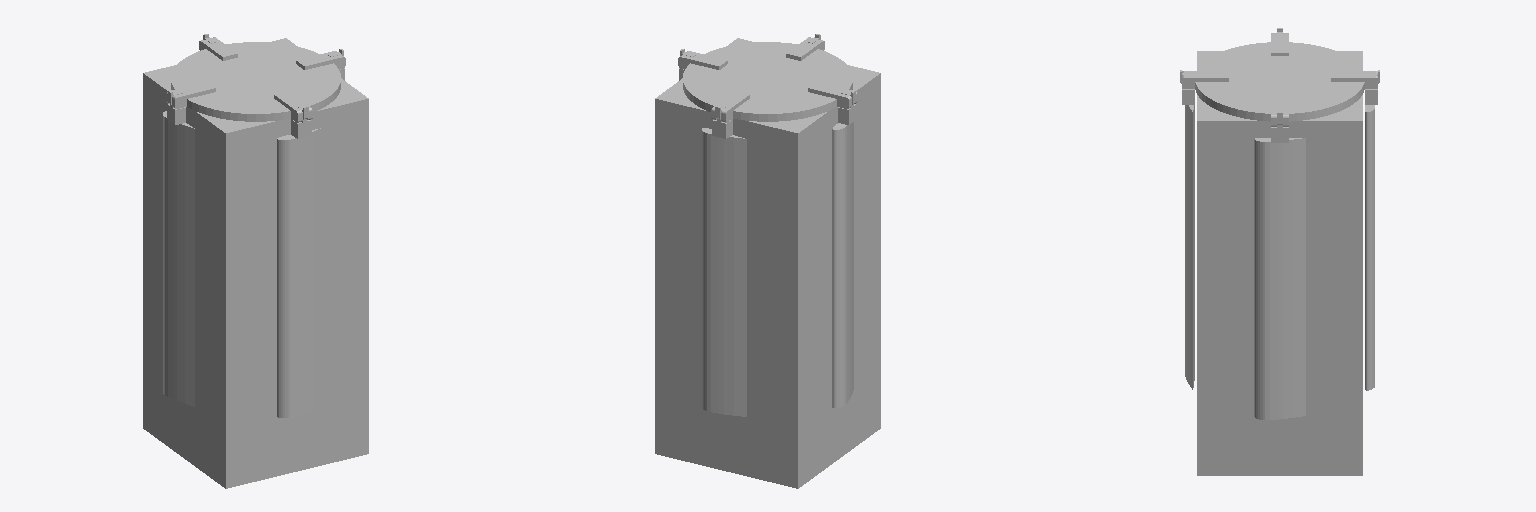
Rendered from CANSAT.obj.
The picture shows the model from 3 angles: view 1: azimuth 30°, elevation 25°; view 2: azimuth 150°, elevation 25°; view 3: azimuth 270°, elevation 25°; orthographic projection.
Parts seen in each view (by area): view 1: mesh_0, mesh_4, mesh_1, mesh_15, mesh_7, mesh_8, mesh_2; view 2: mesh_0, mesh_5, mesh_1, mesh_15, mesh_7, mesh_8, mesh_6; view 3: mesh_0, mesh_16, mesh_1, mesh_5, mesh_4, mesh_2, mesh_6.
Boxes of the visible parts, <box> form: mesh_0: <box>143,38,368,488</box>; mesh_4: <box>277,128,321,417</box>; mesh_1: <box>171,42,340,121</box>; mesh_15: <box>163,111,194,406</box>; mesh_7: <box>166,82,215,108</box>; mesh_8: <box>296,51,345,69</box>; mesh_2: <box>274,91,312,122</box>; mesh_0: <box>655,38,880,488</box>; mesh_5: <box>702,128,746,416</box>; mesh_1: <box>683,42,852,121</box>; mesh_15: <box>832,122,853,407</box>; mesh_7: <box>808,82,857,108</box>; mesh_8: <box>678,51,727,69</box>; mesh_6: <box>711,91,749,122</box>; mesh_0: <box>1197,51,1362,475</box>; mesh_16: <box>1254,138,1305,419</box>; mesh_1: <box>1195,42,1364,121</box>; mesh_5: <box>1365,105,1374,390</box>; mesh_4: <box>1185,105,1194,389</box>; mesh_2: <box>1182,71,1228,88</box>; mesh_6: <box>1331,71,1377,88</box>.
Size of the model in its own units: 117 by 240 by 117.